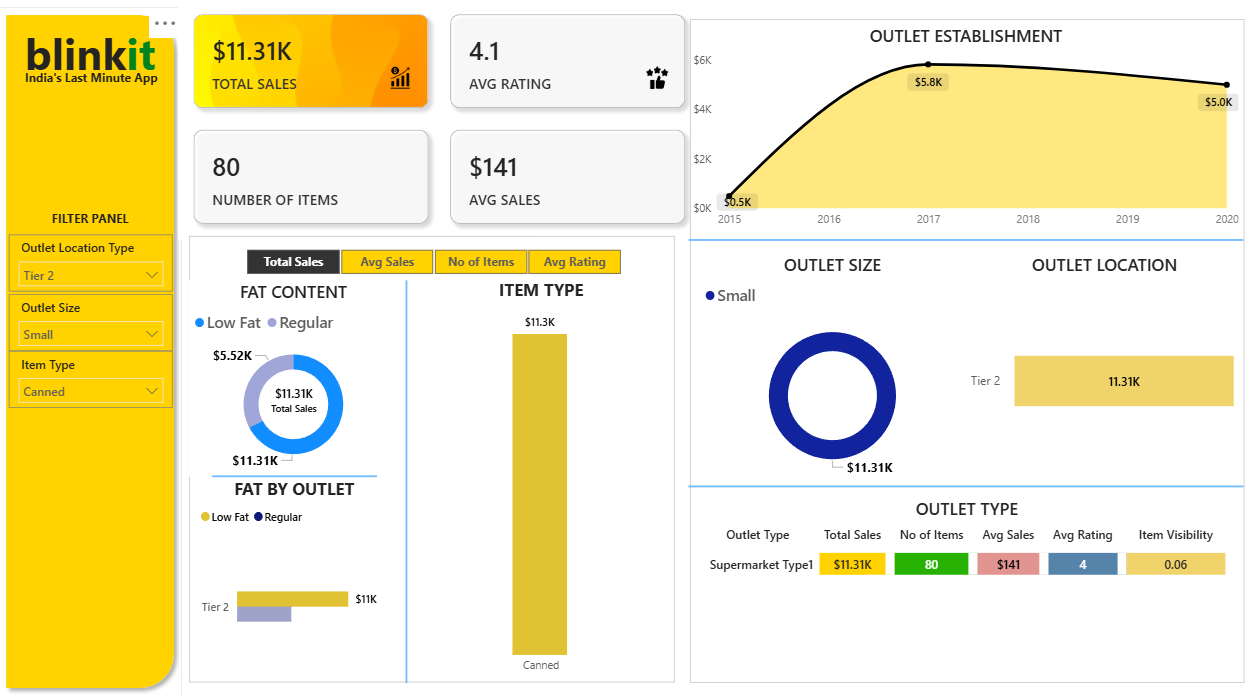

Layout of this report page (visuals, bound fields, positions):
{"tool":"powerbi","page":{"name":"Page 1","canvas":[1400,800],"ordinal":0},"visuals":[{"type":"shape","box":[0,15.9,205,768.5],"z":0},{"type":"textbox","box":[7.9,34.4,190.5,79.4],"z":1000},{"type":"textbox","box":[15.9,86,174.6,27.8],"z":2000},{"type":"cardVisual","fields":{"Data":["BlinkIT Grocery Data.Total Sales","BlinkIT Grocery Data.Avg Sales","BlinkIT Grocery Data.No of Items","BlinkIT Grocery Data.Avg Rating"]},"box":[198.4,15.9,570.1,269.8],"z":3000},{"type":"shape","box":[213,276.5,541,497.4],"z":4000},{"type":"donutChart","title":"FAT CONTENT","fields":{"Y":["BlinkIT Grocery Data.Total Sales"],"Category":["BlinkIT Grocery Data.Item Fat Content"]},"box":[213,325.4,232.8,218.3],"z":5000},{"type":"slicer","fields":{"Values":["Metrics.Metrics"]},"box":[251.3,285.7,465.6,39.7],"z":6000},{"type":"cardVisual","fields":{"Data":["BlinkIT Grocery Data.Total Sales"]},"box":[284.4,425.9,89.9,59.5],"z":7000},{"type":"clusteredBarChart","title":"FAT BY OUTLET","fields":{"Y":["BlinkIT Grocery Data.Total Sales"],"Category":["BlinkIT Grocery Data.Outlet Location Type"],"Series":["BlinkIT Grocery Data.Item Fat Content"]},"box":[220.9,543.7,219.6,230.2],"z":8000},{"type":"shape","box":[238.1,533.1,183.9,19.8],"z":9000},{"type":"shape","box":[445.8,325.4,17.2,448.4],"z":10000},{"type":"barChart","title":"ITEM TYPE","fields":{"Y":["BlinkIT Grocery Data.Total Sales"],"Category":["BlinkIT Grocery Data.Item Type"]},"box":[455,322.8,298.9,451.1],"z":11000},{"type":"shape","box":[769.8,34.4,617.7,739.4],"z":12000},{"type":"lineChart","title":"OUTLET ESTABLISHMENT","fields":{"Y":["BlinkIT Grocery Data.Total Sales"],"Category":["BlinkIT Grocery Data.Outlet Establishment Year"]},"box":[768.5,41,617.7,235.5],"z":13000},{"type":"shape","box":[768.5,276.5,617.7,9.3],"z":14000},{"type":"donutChart","title":"OUTLET SIZE","fields":{"Y":["BlinkIT Grocery Data.Total Sales"],"Category":["BlinkIT Grocery Data.Outlet Size"]},"box":[781.8,295,296.3,259.3],"z":15000},{"type":"funnel","title":"OUTLET LOCATION","fields":{"Y":["Sum(BlinkIT Grocery Data.Sales)"],"Category":["BlinkIT Grocery Data.Outlet Location Type"]},"box":[1078,295,308.2,259.3],"z":16000},{"type":"shape","box":[768.5,550.3,617.7,9.3],"z":17000},{"type":"pivotTable","title":"OUTLET TYPE","fields":{"Rows":["BlinkIT Grocery Data.Outlet Type"],"Values":["BlinkIT Grocery Data.Total Sales","BlinkIT Grocery Data.No of Items","BlinkIT Grocery Data.Avg Sales","BlinkIT Grocery Data.Avg Rating","Avg(BlinkIT Grocery Data.Item Visibility)"]},"box":[783.1,567.5,592.6,203.7],"z":18000},{"type":"slicer","fields":{"Values":["BlinkIT Grocery Data.Outlet Location Type"]},"box":[11.9,273.8,182.5,63.5],"z":19000},{"type":"slicer","fields":{"Values":["BlinkIT Grocery Data.Outlet Size"]},"box":[11.9,341.3,182.5,63.5],"z":20000},{"type":"slicer","fields":{"Values":["BlinkIT Grocery Data.Item Type"]},"box":[11.9,404.8,182.5,63.5],"z":21000},{"type":"textbox","box":[50.3,243.4,105.8,30.4],"z":22000},{"type":"textbox","box":[43.7,742.1,112.4,31.7],"z":23000}]}

Visuals, with their boxes in screenshot pixels (x1, y1, x2, y2), scaled from the page's 1400x800 canvas onto the 1251x695 screenshot:
shape: rect(0, 14, 183, 681)
textbox: rect(7, 30, 177, 99)
textbox: rect(14, 75, 170, 99)
cardVisual - BlinkIT Grocery Data.Total Sales x BlinkIT Grocery Data.Avg Sales: rect(177, 14, 687, 248)
shape: rect(190, 240, 674, 672)
"FAT CONTENT" donutChart: rect(190, 283, 398, 472)
slicer - Metrics.Metrics: rect(225, 248, 641, 283)
cardVisual - BlinkIT Grocery Data.Total Sales: rect(254, 370, 334, 422)
"FAT BY OUTLET" clusteredBarChart: rect(197, 472, 394, 672)
shape: rect(213, 463, 377, 480)
shape: rect(398, 283, 414, 672)
"ITEM TYPE" barChart: rect(407, 280, 674, 672)
shape: rect(688, 30, 1240, 672)
"OUTLET ESTABLISHMENT" lineChart: rect(687, 36, 1239, 240)
shape: rect(687, 240, 1239, 248)
"OUTLET SIZE" donutChart: rect(699, 256, 963, 482)
"OUTLET LOCATION" funnel: rect(963, 256, 1239, 482)
shape: rect(687, 478, 1239, 486)
"OUTLET TYPE" pivotTable: rect(700, 493, 1229, 670)
slicer - BlinkIT Grocery Data.Outlet Location Type: rect(11, 238, 174, 293)
slicer - BlinkIT Grocery Data.Outlet Size: rect(11, 297, 174, 352)
slicer - BlinkIT Grocery Data.Item Type: rect(11, 352, 174, 407)
textbox: rect(45, 211, 139, 238)
textbox: rect(39, 645, 139, 672)
